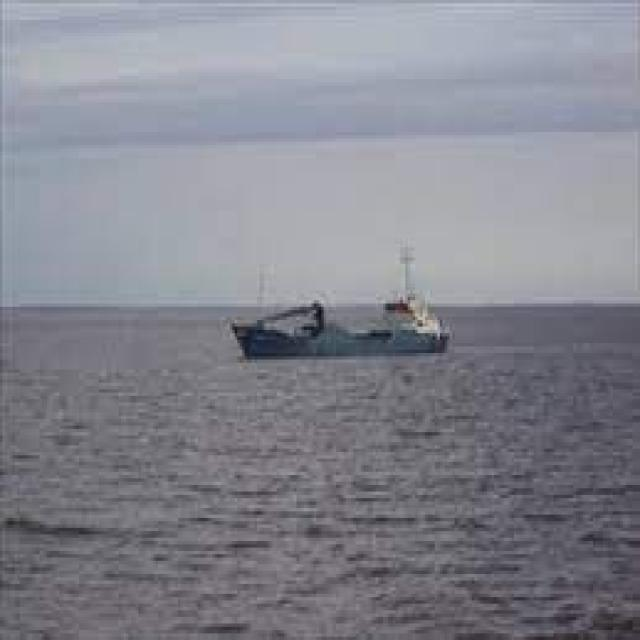navalvessels: (213, 232, 450, 366)
